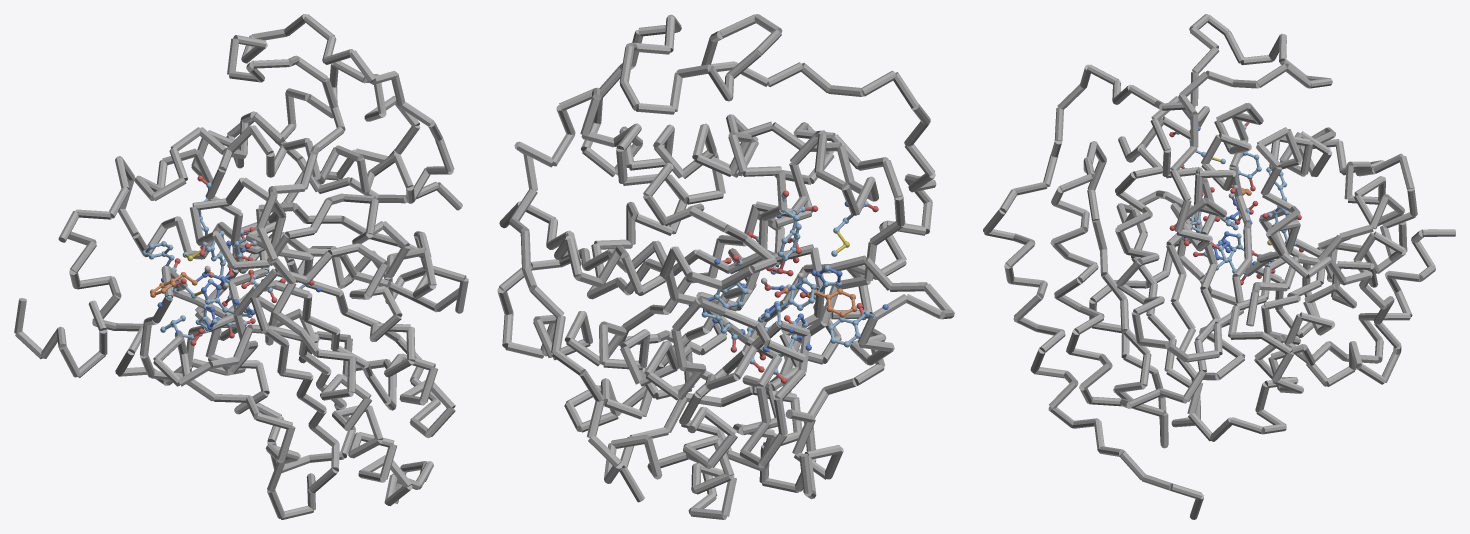
File: HDAC8_HUMAN.glb
3 views of the same model, side by side, from view 1: azimuth 30°, elevation 25°; view 2: azimuth 150°, elevation 25°; view 3: azimuth 270°, elevation 25° (orthographic). The views are drawn at different scales.
Parts seen in each view (by area): view 1: backbone, pocket_residues, ligand; view 2: backbone, pocket_residues, ligand; view 3: backbone, pocket_residues.
Part boxes in pixels (x1,y1,x2,y2): backbone: (14, 14, 468, 519); pocket_residues: (142, 175, 321, 345); ligand: (150, 264, 233, 297); backbone: (497, 14, 954, 519); pocket_residues: (688, 190, 888, 383); ligand: (761, 272, 857, 317); backbone: (983, 14, 1455, 519); pocket_residues: (1169, 122, 1303, 285).
Size of the model in its own units: 45.2 by 55.56 by 53.64.
